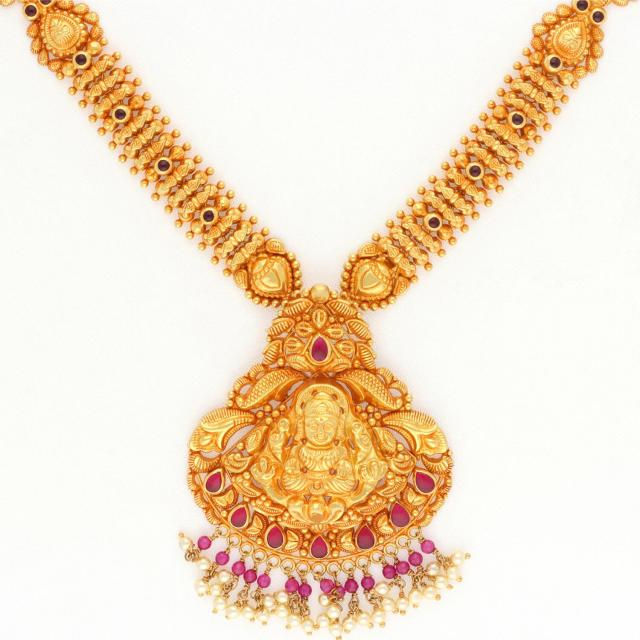missing gem: (308, 500, 324, 523)
